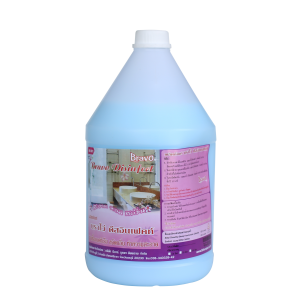Cleaning_solution: (82, 25, 218, 292)
